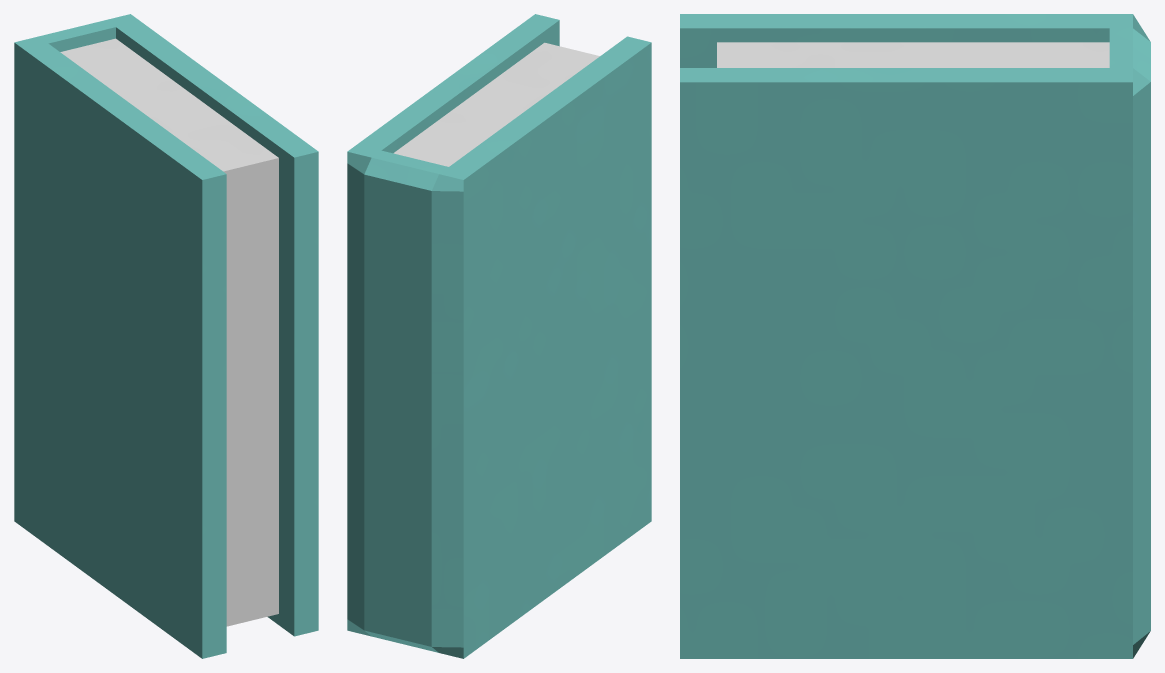
The model's file is Book_01_04.fbx.
3 renders of one model, left to right at view 1: azimuth 30°, elevation 25°; view 2: azimuth 150°, elevation 25°; view 3: azimuth 270°, elevation 25°, orthographic. The views are drawn at different scales.
Parts seen in each view (by area): view 1: Book_01_04; view 2: Book_01_04; view 3: Book_01_04.
Boxes of the visible parts, x1,y1,x2,y2 form: Book_01_04: [14, 14, 318, 658]; Book_01_04: [347, 14, 651, 658]; Book_01_04: [680, 14, 1150, 658].
Bounding box in the file's own units: 0.0979 × 0.3847 × 0.2847.
